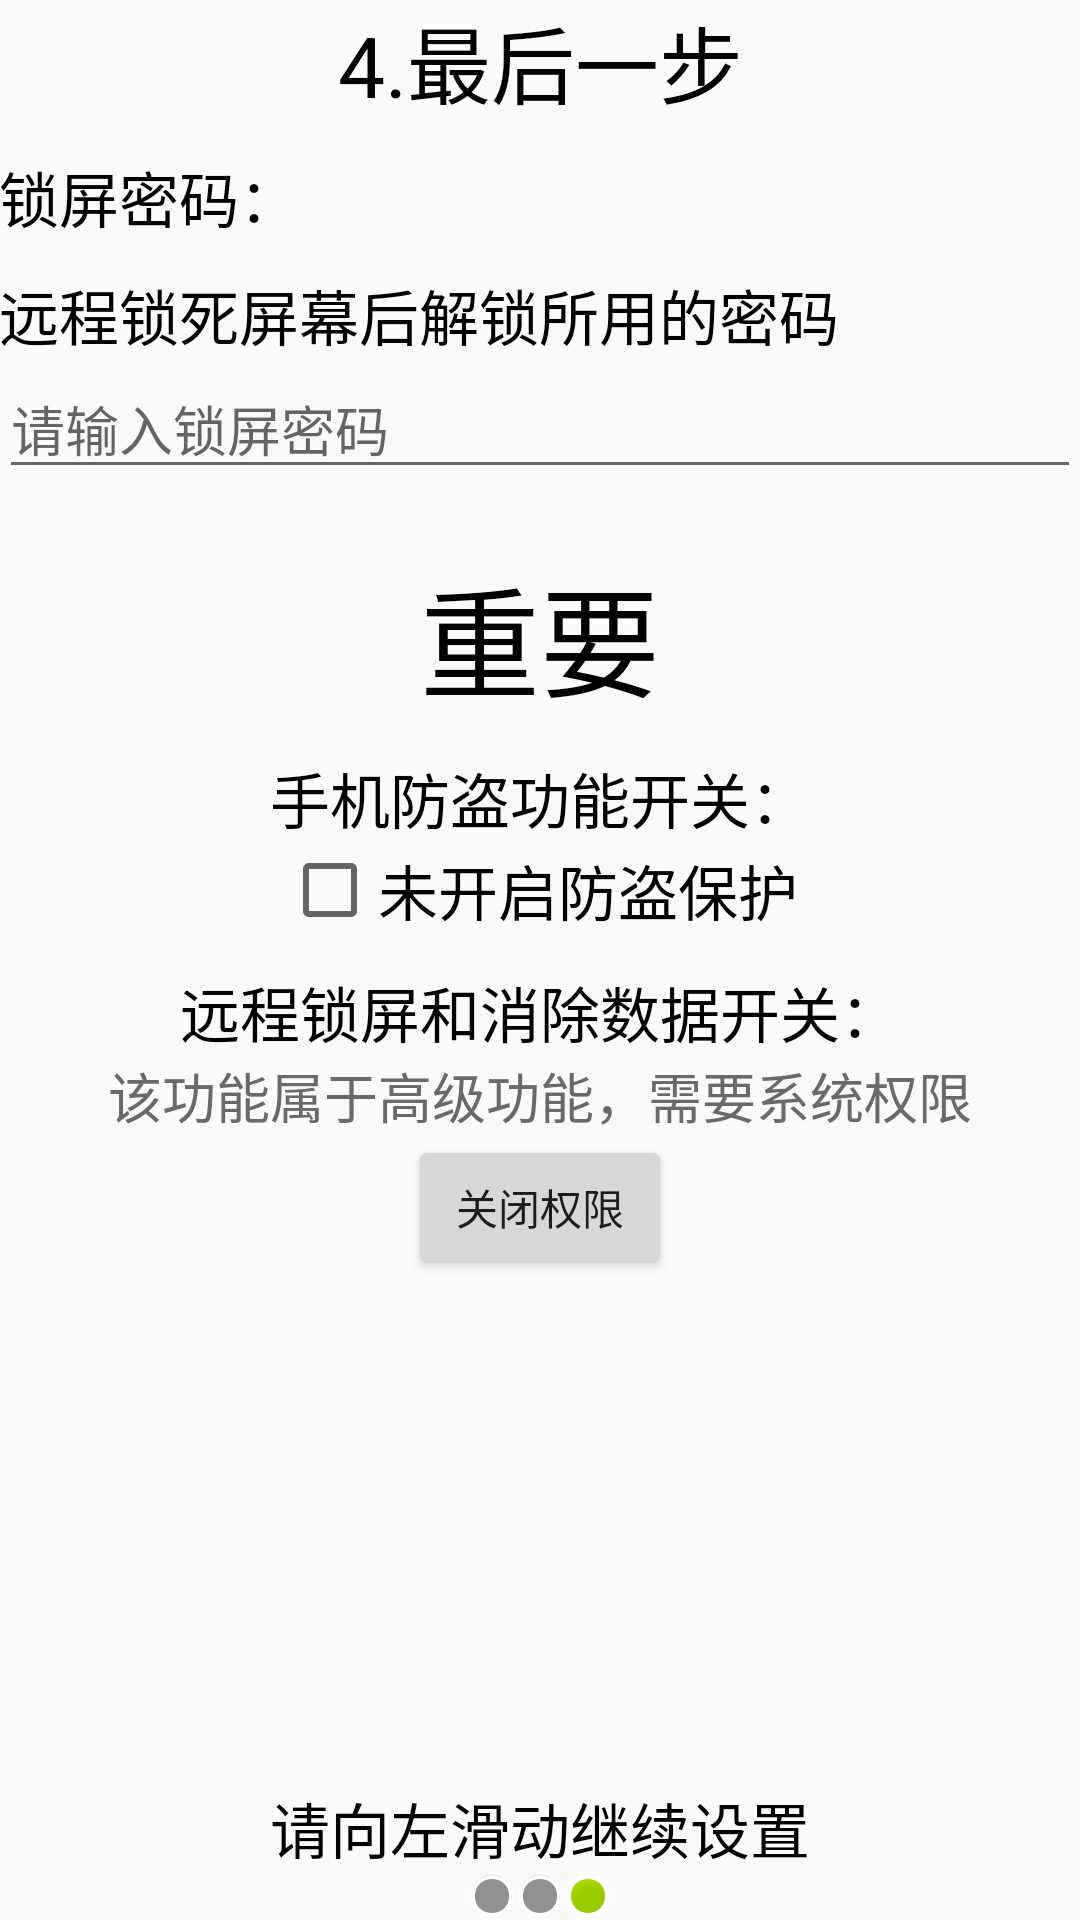

Screen size 1080px x 1920px. Icon name, then its center in pixels as (x=x, y=y):
presence invisible: (x=492, y=1894), (x=540, y=1894)
presence online: (x=588, y=1896)
